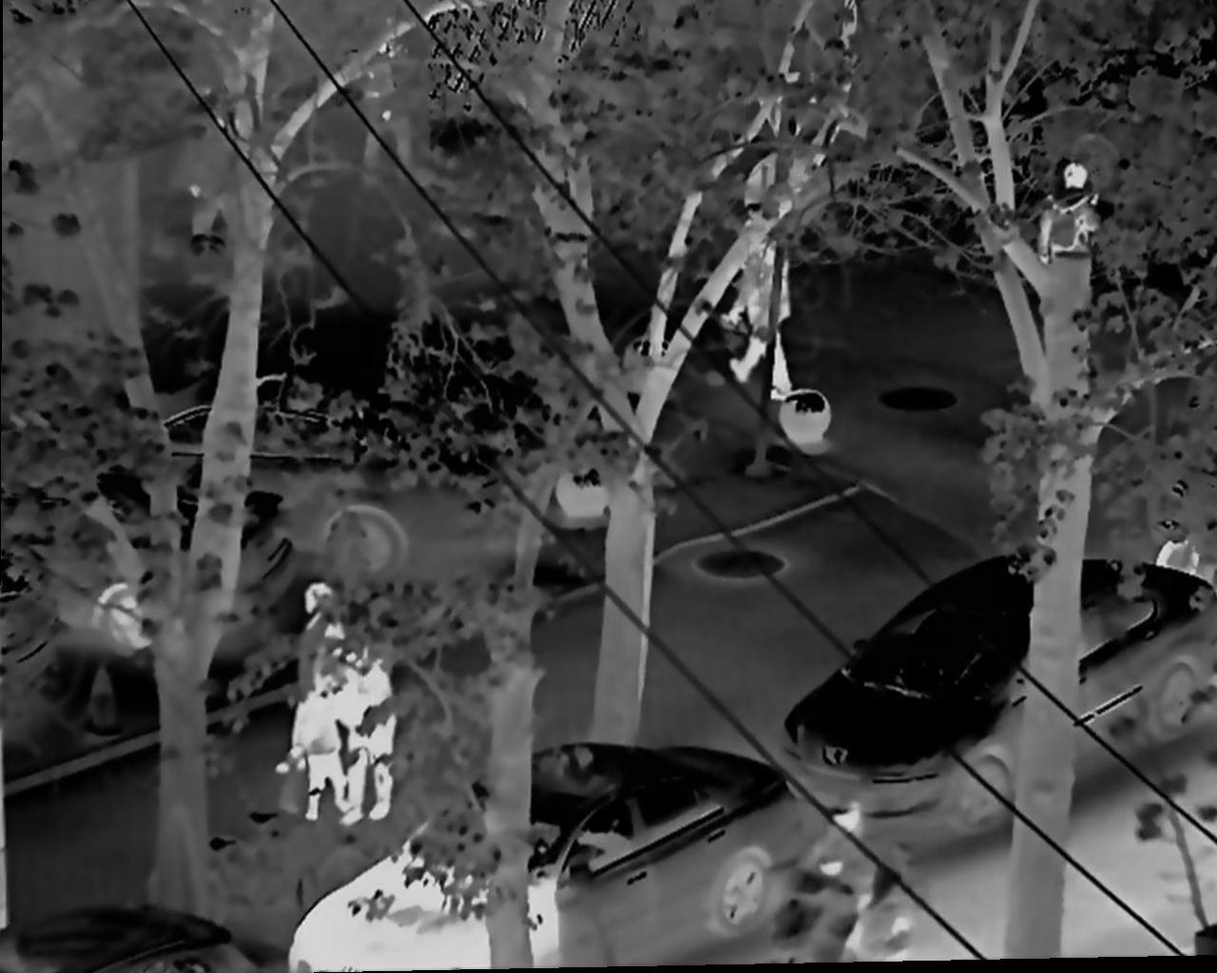person: (726, 206, 799, 409), (293, 586, 345, 820), (342, 622, 401, 821), (1043, 161, 1103, 288)
